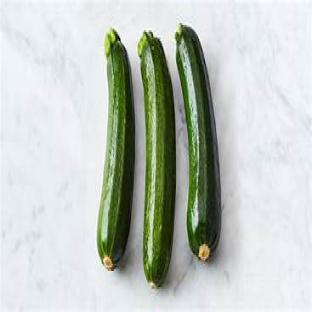Zucchini: (176, 25, 221, 260), (138, 33, 175, 287), (97, 29, 134, 270)
